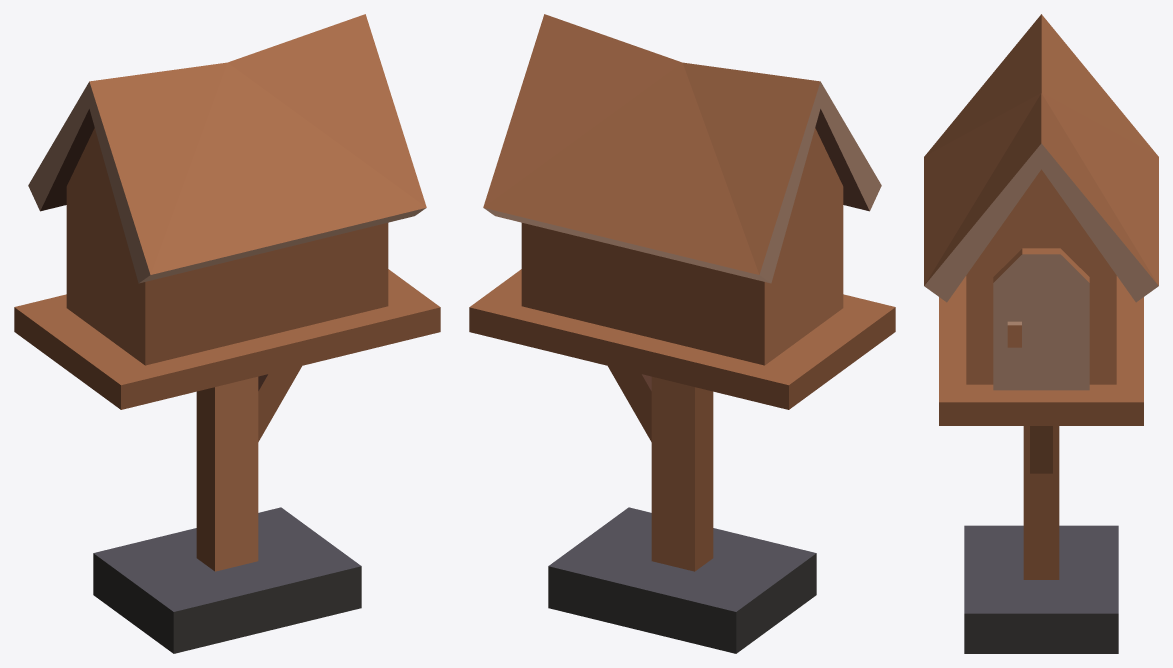
Rendered from TB_Prop_MailBox.FBX.
3 views of the same model, side by side, from view 1: azimuth 30°, elevation 25°; view 2: azimuth 150°, elevation 25°; view 3: azimuth 270°, elevation 25° (orthographic). The views are drawn at different scales.
Parts seen in each view (by area): view 1: TB_Prop_MailBox; view 2: TB_Prop_MailBox; view 3: TB_Prop_MailBox.
Boxes of the visible parts, box(x1,y1,x2,y2) form: TB_Prop_MailBox: box(14, 14, 440, 653); TB_Prop_MailBox: box(469, 14, 895, 653); TB_Prop_MailBox: box(924, 14, 1158, 653).
Bounding box in the file's own units: 1.05 × 1.73 × 0.6936.
